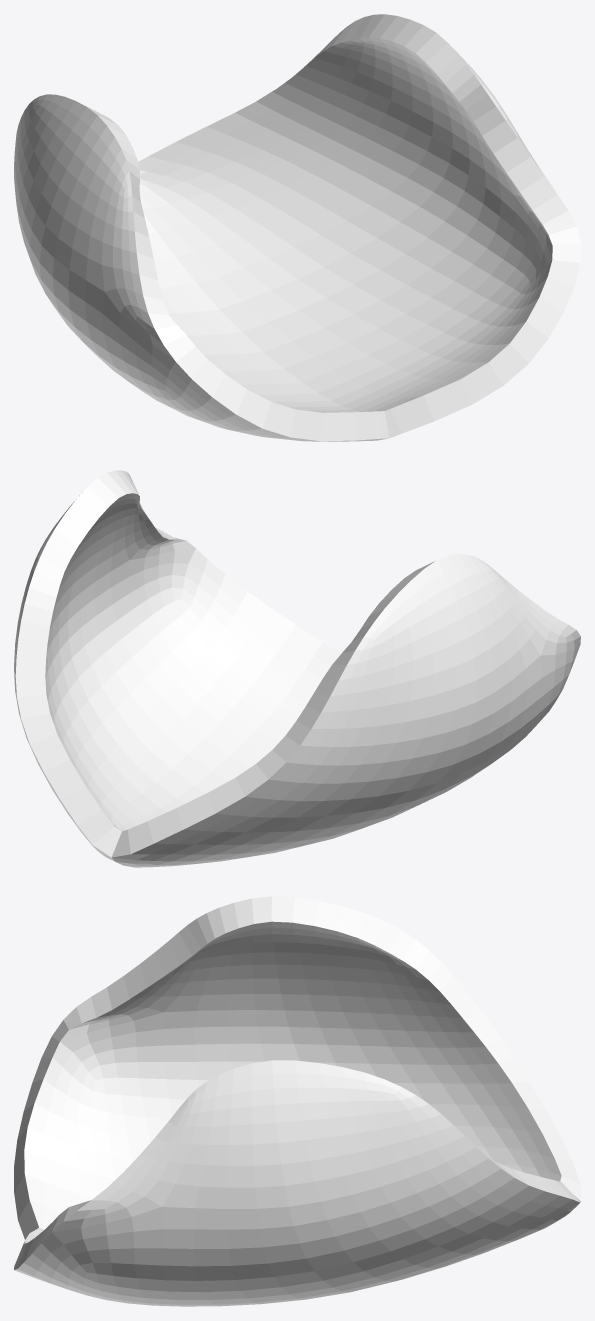
File: Carcasa_lateral.glb
The picture shows the model from 3 angles, top to bottom: view 1: azimuth 30°, elevation 25°; view 2: azimuth 150°, elevation 25°; view 3: azimuth 270°, elevation 25°; orthographic projection.
Parts seen in each view (by area): view 1: carcasa_lateral; view 2: carcasa_lateral; view 3: carcasa_lateral.
Part boxes in pixels (bbox=[...]): carcasa_lateral: bbox=[14, 14, 580, 441]; carcasa_lateral: bbox=[14, 470, 580, 867]; carcasa_lateral: bbox=[14, 896, 580, 1306].
Bounding box in the file's own units: 1.57 × 1.05 × 1.75.
Materials: 1 (1 with a texture image).
